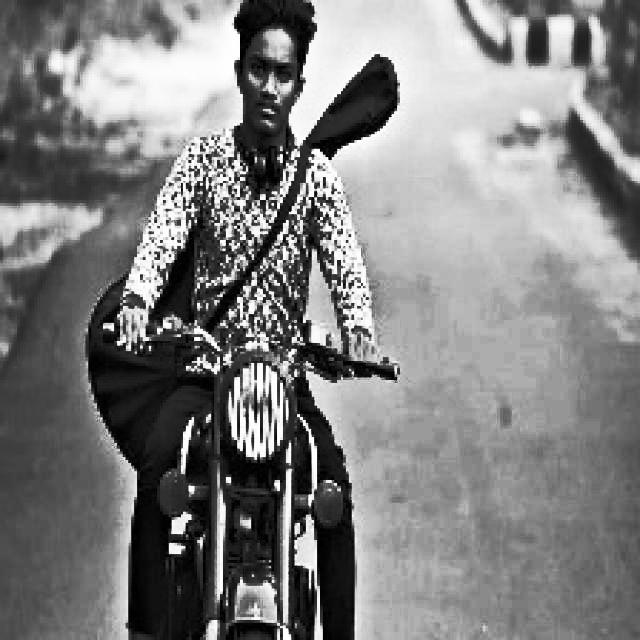Bike: (143, 293, 323, 639)
